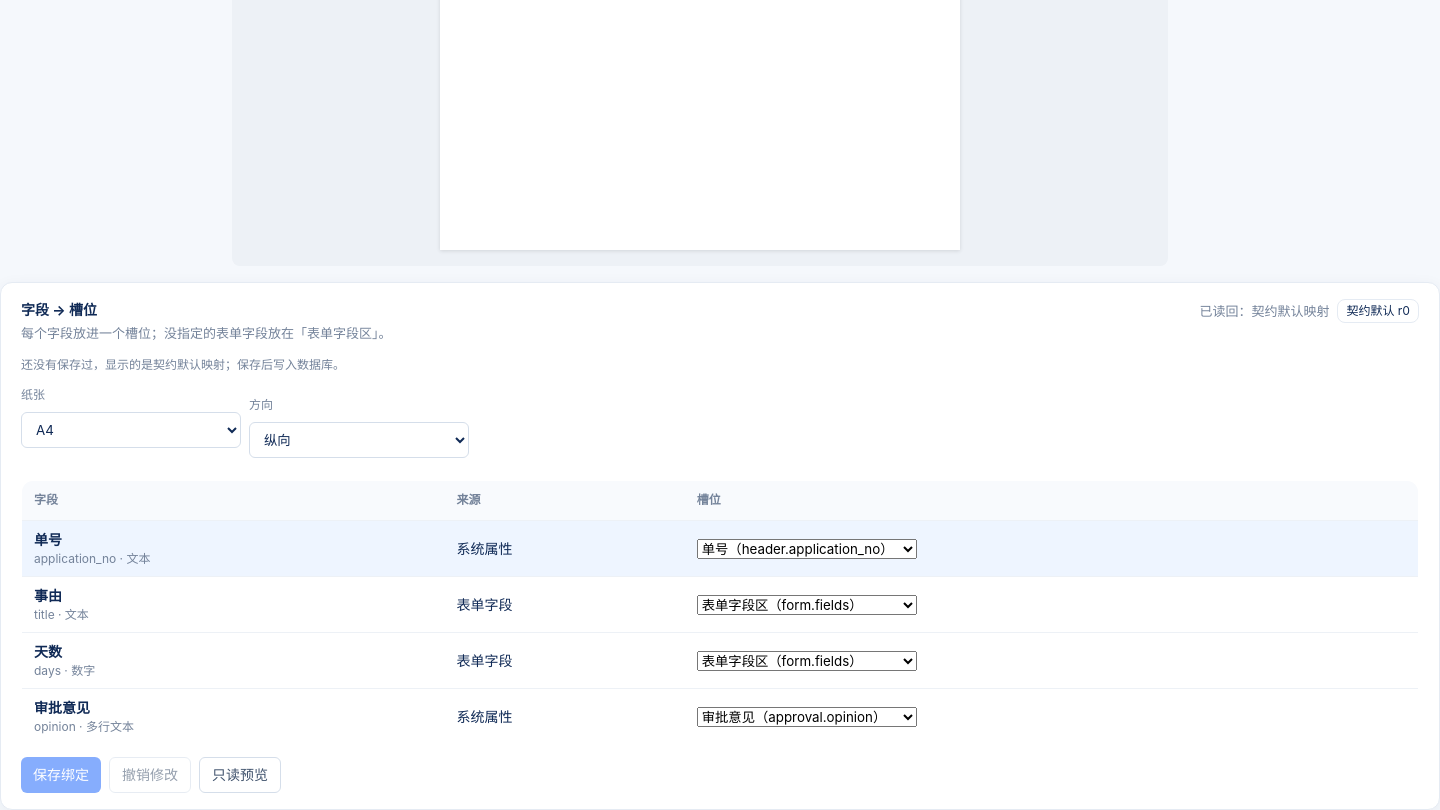
Scenario: honest save and revision (CF-RD3) › shows the process-local revision honestly and sends the revision it was based on
(page scrolled)
Expected: the text with test id "designer-binding-version" reads "契约默认 r0", x1=1346 y1=303 x2=1410 y2=318
Expected: the text with test id "designer-binding-durability" shows "保存后写入数据库", x1=21 y1=357 x2=345 y2=372
Select "未映射（落入表单字段区）" in the dropdown with test id "designer-binding-days". click: (807, 661)
box: x1=697 y1=651 x2=917 y2=671
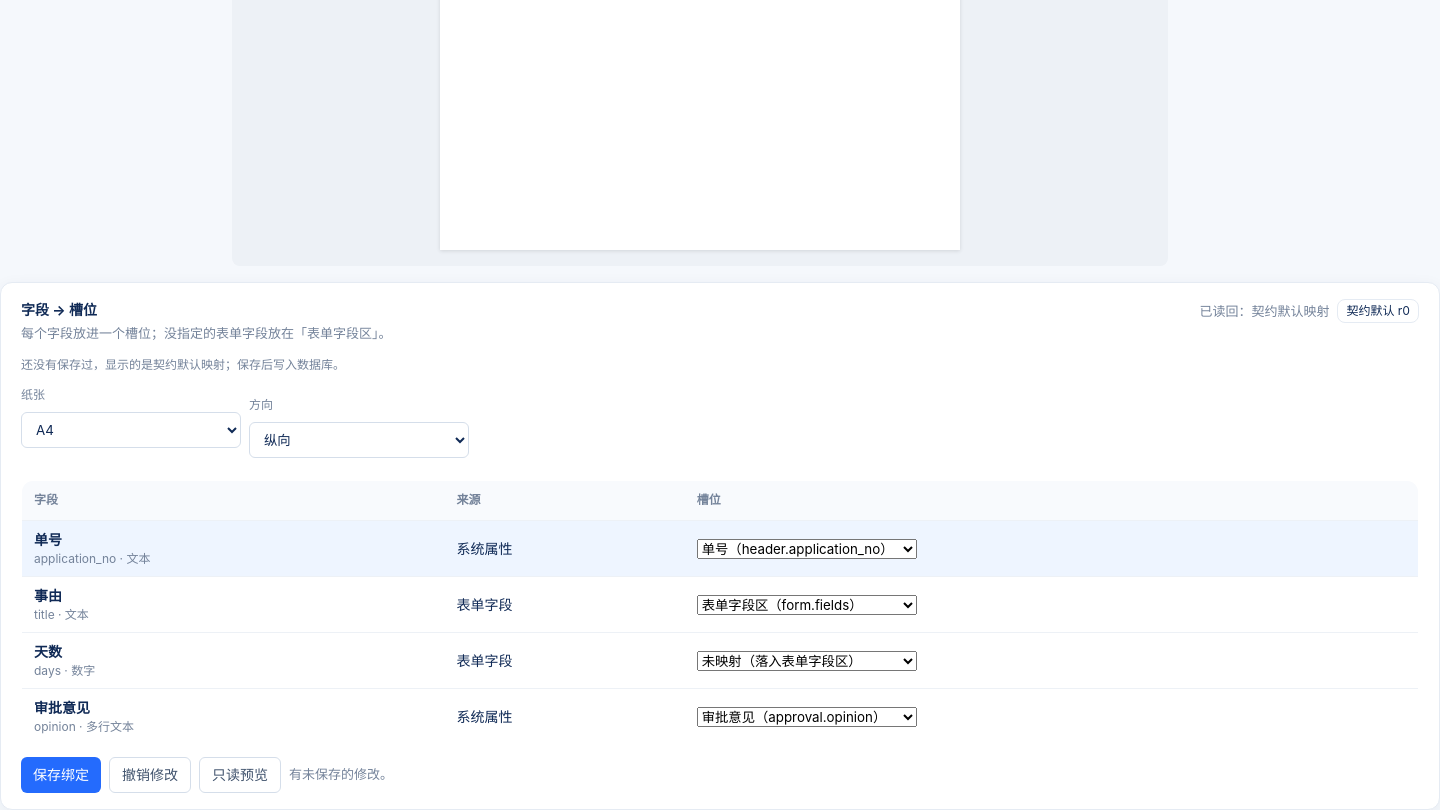
Expected: the text with test id "designer-binding-dirty" shows "未保存", x1=289 y1=765 x2=393 y2=785
Click the button with test id "designer-binding-save". click: (61, 775)
box: x1=21 y1=757 x2=101 y2=793
(page scrolled)
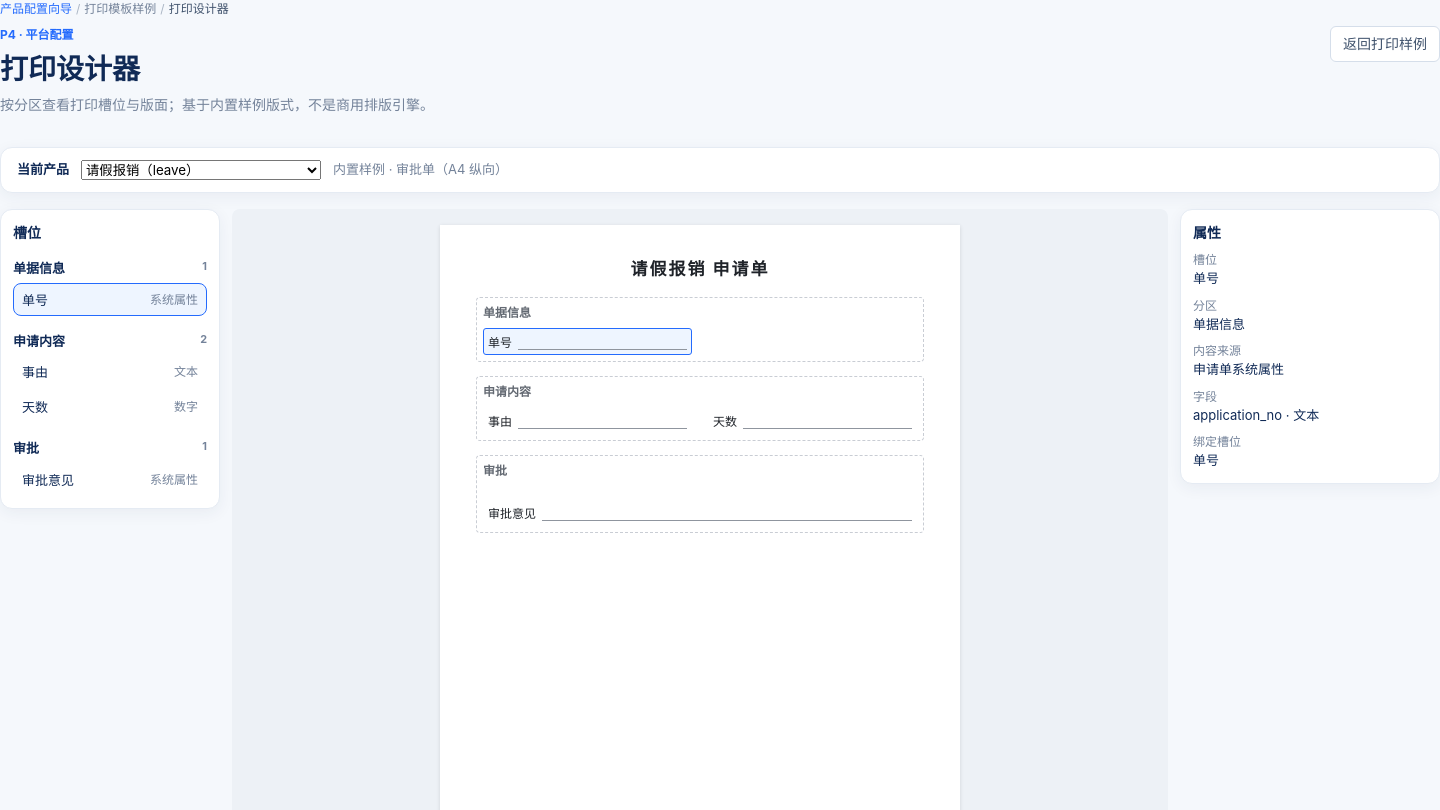
Expected: the dropdown with test id "designer-product-select" is enabled, x1=81 y1=160 x2=321 y2=180
